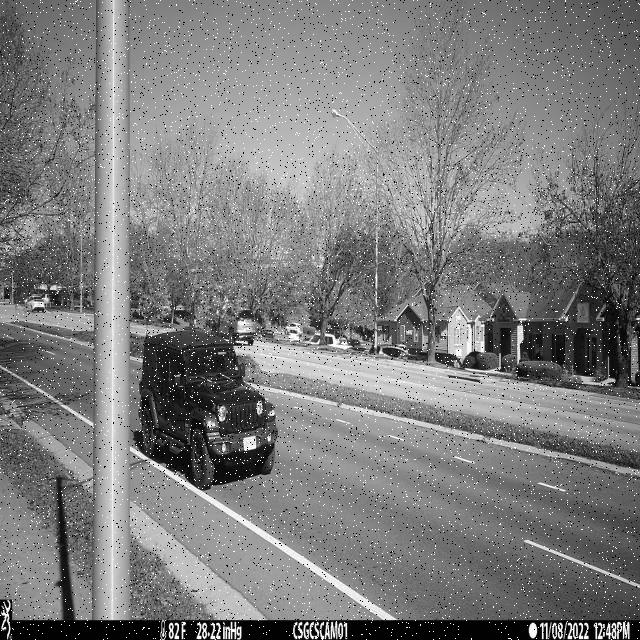SUV: (139, 328, 279, 491)
